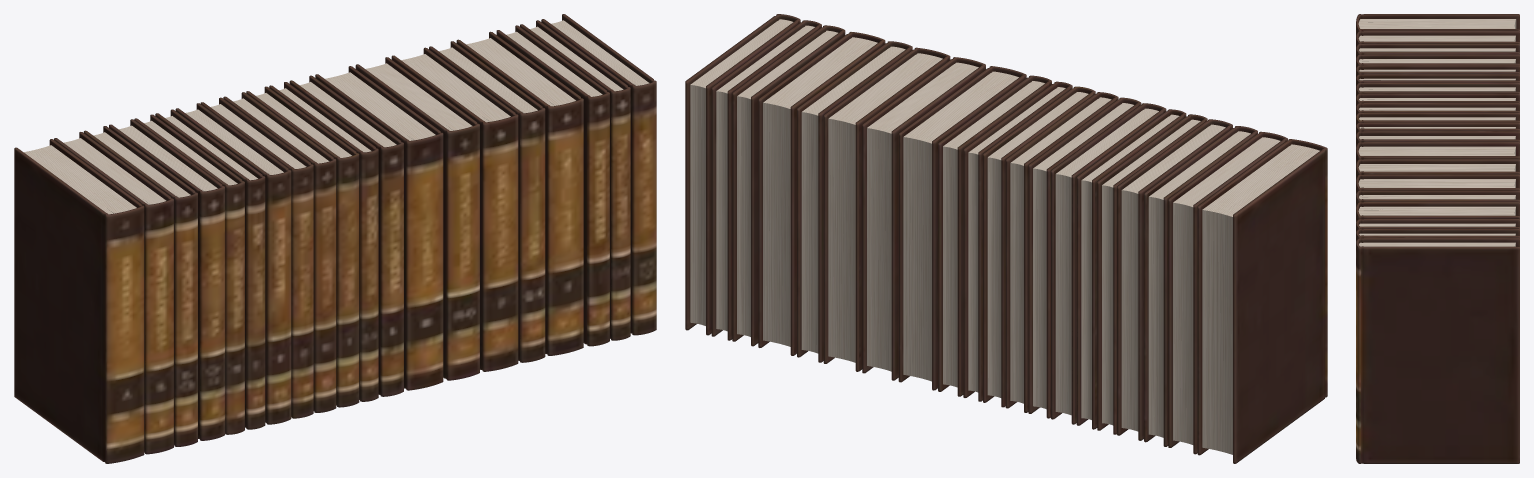
Rendered from book_encyclopedia_set_01.glb.
The picture shows the model from 3 angles, left to right: view 1: azimuth 30°, elevation 25°; view 2: azimuth 150°, elevation 25°; view 3: azimuth 270°, elevation 25°; orthographic projection. The views are drawn at different scales.
Parts seen in each view (by area): view 1: book_encyclopedia_set_01_book01, book_encyclopedia_set_01_book13, book_encyclopedia_set_01_book15, book_encyclopedia_set_01_book17, book_encyclopedia_set_01_book14, book_encyclopedia_set_01_book02, book_encyclopedia_set_01_book16, book_encyclopedia_set_01_book04, book_encyclopedia_set_01_book18, book_encyclopedia_set_01_book20, book_encyclopedia_set_01_book07, book_encyclopedia_set_01_book12 (+8 smaller); view 2: book_encyclopedia_set_01_book01, book_encyclopedia_set_01_book13, book_encyclopedia_set_01_book15, book_encyclopedia_set_01_book17, book_encyclopedia_set_01_book14, book_encyclopedia_set_01_book02, book_encyclopedia_set_01_book04, book_encyclopedia_set_01_book16, book_encyclopedia_set_01_book20, book_encyclopedia_set_01_book18, book_encyclopedia_set_01_book07, book_encyclopedia_set_01_book12 (+8 smaller); view 3: book_encyclopedia_set_01_book20, book_encyclopedia_set_01_book13, book_encyclopedia_set_01_book01, book_encyclopedia_set_01_book17, book_encyclopedia_set_01_book15, book_encyclopedia_set_01_book14, book_encyclopedia_set_01_book02, book_encyclopedia_set_01_book16, book_encyclopedia_set_01_book03, book_encyclopedia_set_01_book12, book_encyclopedia_set_01_book07, book_encyclopedia_set_01_book04 (+8 smaller).
Boxes of the visible parts, left/top/right/bottom form: book_encyclopedia_set_01_book01: left=14, top=139, right=144, bottom=463; book_encyclopedia_set_01_book13: left=315, top=66, right=443, bottom=390; book_encyclopedia_set_01_book15: left=391, top=47, right=518, bottom=371; book_encyclopedia_set_01_book17: left=456, top=31, right=583, bottom=355; book_encyclopedia_set_01_book14: left=355, top=57, right=479, bottom=380; book_encyclopedia_set_01_book02: left=54, top=132, right=173, bottom=454; book_encyclopedia_set_01_book16: left=429, top=41, right=545, bottom=362; book_encyclopedia_set_01_book04: left=109, top=119, right=224, bottom=440; book_encyclopedia_set_01_book18: left=496, top=25, right=609, bottom=346; book_encyclopedia_set_01_book20: left=541, top=14, right=656, bottom=335; book_encyclopedia_set_01_book07: left=175, top=103, right=291, bottom=424; book_encyclopedia_set_01_book12: left=289, top=75, right=403, bottom=396; book_encyclopedia_set_01_book01: left=1197, top=139, right=1327, bottom=463; book_encyclopedia_set_01_book13: left=898, top=66, right=1026, bottom=390; book_encyclopedia_set_01_book15: left=823, top=47, right=950, bottom=371; book_encyclopedia_set_01_book17: left=758, top=32, right=885, bottom=355; book_encyclopedia_set_01_book14: left=862, top=57, right=985, bottom=380; book_encyclopedia_set_01_book02: left=1168, top=131, right=1287, bottom=454; book_encyclopedia_set_01_book04: left=1117, top=119, right=1232, bottom=440; book_encyclopedia_set_01_book16: left=797, top=41, right=912, bottom=362; book_encyclopedia_set_01_book20: left=685, top=14, right=800, bottom=335; book_encyclopedia_set_01_book18: left=732, top=25, right=845, bottom=346; book_encyclopedia_set_01_book07: left=1051, top=103, right=1166, bottom=424; book_encyclopedia_set_01_book12: left=938, top=75, right=1051, bottom=396; book_encyclopedia_set_01_book20: left=1356, top=238, right=1519, bottom=463; book_encyclopedia_set_01_book13: left=1356, top=142, right=1519, bottom=164; book_encyclopedia_set_01_book01: left=1356, top=14, right=1519, bottom=35; book_encyclopedia_set_01_book17: left=1356, top=202, right=1519, bottom=222; book_encyclopedia_set_01_book15: left=1356, top=174, right=1519, bottom=194; book_encyclopedia_set_01_book14: left=1356, top=159, right=1519, bottom=180; book_encyclopedia_set_01_book02: left=1356, top=30, right=1519, bottom=47; book_encyclopedia_set_01_book16: left=1356, top=190, right=1519, bottom=208; book_encyclopedia_set_01_book03: left=1356, top=43, right=1519, bottom=58; book_encyclopedia_set_01_book12: left=1356, top=131, right=1519, bottom=148; book_encyclopedia_set_01_book07: left=1356, top=82, right=1519, bottom=96; book_encyclopedia_set_01_book04: left=1356, top=54, right=1519, bottom=68.
Bounding box in the file's own units: 0.5513 × 0.2374 × 0.1631.
Materials: 2 (2 with a texture image).
